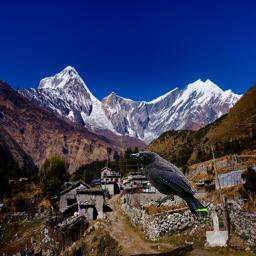Crow: (130, 151, 209, 218)
